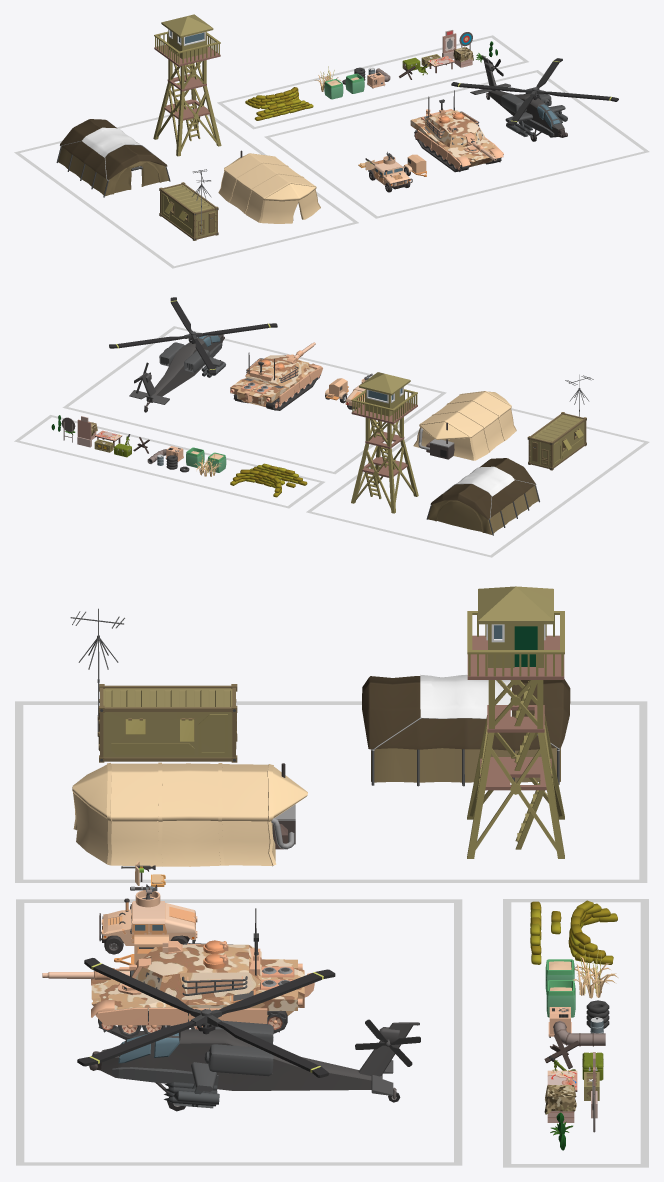
File: mil.glb
3 views of the same model, one above another, from view 1: azimuth 30°, elevation 25°; view 2: azimuth 150°, elevation 25°; view 3: azimuth 270°, elevation 25° (orthographic). The views are drawn at different scales.
Parts seen in each view (by area): view 1: Frame, Tower_003, Tent_002, Tent_010, Helicopter_001, Radiostation_001, Tank_006, Tank_tower_006, Blade_001, Hummer_003, Barrier_006, Barrier_007; view 2: Tower_003, Tent_002, Frame, Tent_010, Helicopter_001, Radiostation_001, Tank_006, Tank_tower_006, Blade_001, Barrier_006, Barrier_007, Target_002 (+1 smaller); view 3: Tent_010, Frame, Tower_003, Tent_002, Helicopter_001, Radiostation_001, Tank_006, Tank_tower_006, Blade_001, Hummer_003, Barrier_006, Conditioner_002 (+3 smaller).
Boxes of the visible parts, x1,y1,x2,y2 form: Frame: [14, 35, 649, 268]; Tower_003: [153, 14, 221, 156]; Tent_002: [56, 119, 170, 197]; Tent_010: [218, 150, 320, 223]; Helicopter_001: [470, 55, 567, 141]; Radiostation_001: [159, 169, 218, 240]; Tank_006: [410, 109, 503, 172]; Tank_tower_006: [424, 90, 484, 147]; Blade_001: [451, 58, 618, 125]; Hummer_003: [368, 160, 412, 189]; Barrier_006: [245, 87, 298, 108]; Barrier_007: [254, 99, 313, 120]; Tower_003: [351, 372, 418, 513]; Tent_002: [426, 458, 539, 535]; Frame: [14, 326, 649, 557]; Tent_010: [413, 391, 516, 460]; Helicopter_001: [129, 334, 225, 412]; Radiostation_001: [527, 374, 593, 470]; Tank_006: [230, 360, 322, 410]; Tank_tower_006: [245, 352, 306, 386]; Blade_001: [109, 297, 277, 374]; Barrier_006: [230, 469, 281, 497]; Barrier_007: [250, 463, 307, 485]; Target_002: [77, 416, 91, 447]; Tent_010: [72, 762, 307, 866]; Frame: [15, 701, 648, 1167]; Tower_003: [467, 586, 564, 858]; Tent_002: [362, 674, 570, 786]; Helicopter_001: [89, 1020, 419, 1111]; Radiostation_001: [70, 608, 237, 762]; Tank_006: [91, 959, 314, 1039]; Tank_tower_006: [135, 908, 261, 999]; Blade_001: [77, 958, 335, 1077]; Hummer_003: [99, 898, 197, 945]; Barrier_006: [568, 900, 617, 964]; Conditioner_002: [548, 1007, 605, 1046].
Bounding box in the file's own units: 49.02 × 12.45 × 28.17.
Materials: 3 (3 with a texture image).
